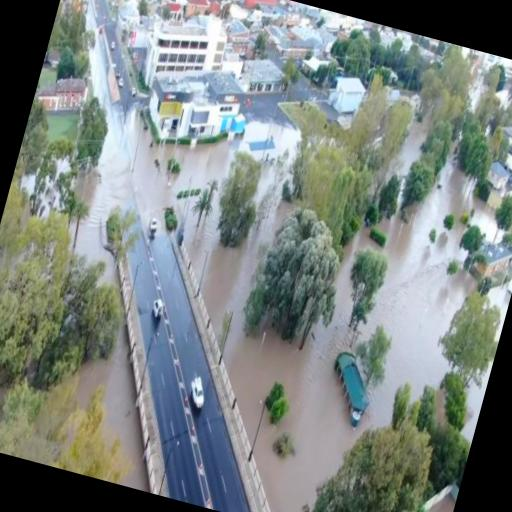flood: (225, 159, 496, 512), (76, 42, 294, 340), (76, 325, 149, 492), (463, 362, 493, 442), (465, 368, 491, 441), (488, 286, 511, 341), (490, 287, 511, 339), (430, 496, 455, 512)
house: (144, 57, 248, 157), (134, 8, 224, 99), (30, 60, 92, 125), (324, 350, 377, 422), (320, 70, 371, 130), (236, 115, 288, 172), (465, 238, 512, 301), (237, 53, 291, 100), (407, 474, 460, 512), (296, 50, 338, 92), (480, 155, 512, 206), (264, 20, 304, 60), (492, 114, 512, 172), (225, 18, 253, 46), (240, 0, 275, 15)
